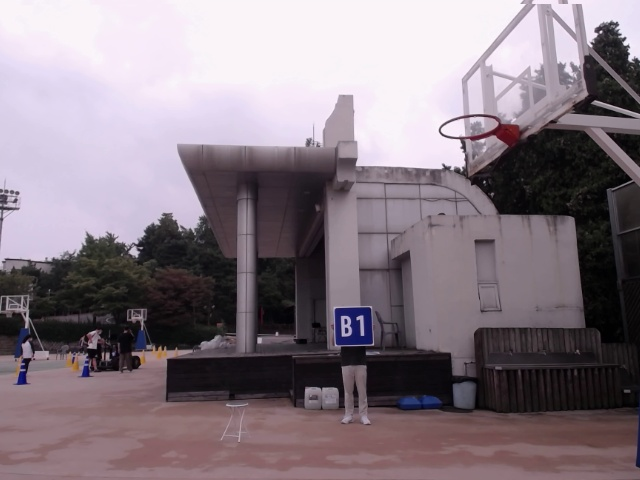delivery_b1: (334, 306, 374, 346)
